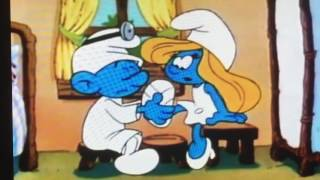smurf: (139, 6, 262, 169), (67, 23, 173, 176)
